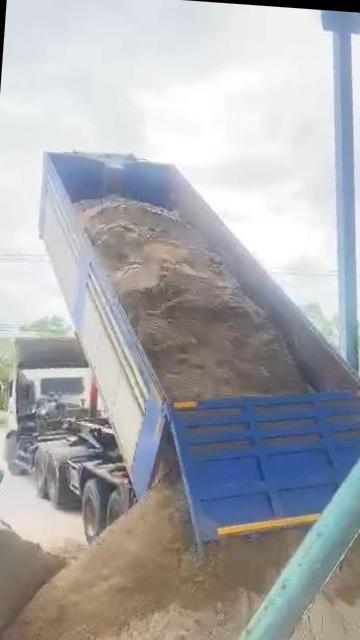sand: (0, 479, 302, 640), (79, 196, 309, 400), (240, 525, 360, 640), (0, 520, 64, 638), (50, 540, 85, 565)
